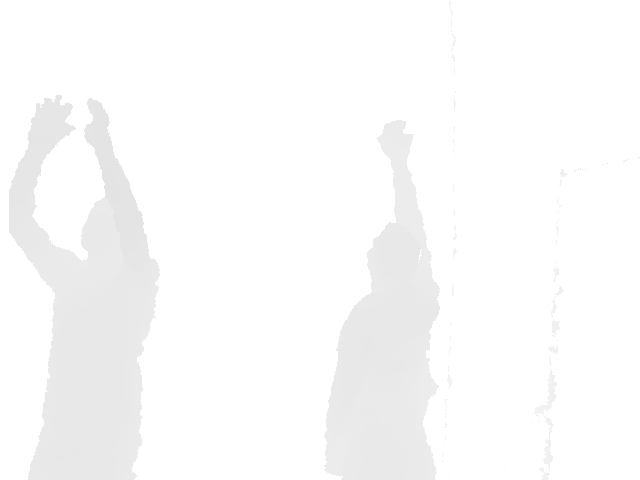hand: (26, 95, 75, 154), (376, 120, 413, 167), (84, 98, 110, 153)
head: (366, 222, 417, 297), (81, 195, 129, 260)
person: (8, 95, 161, 479), (324, 120, 442, 480)
